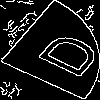D: (24, 24, 100, 80)
